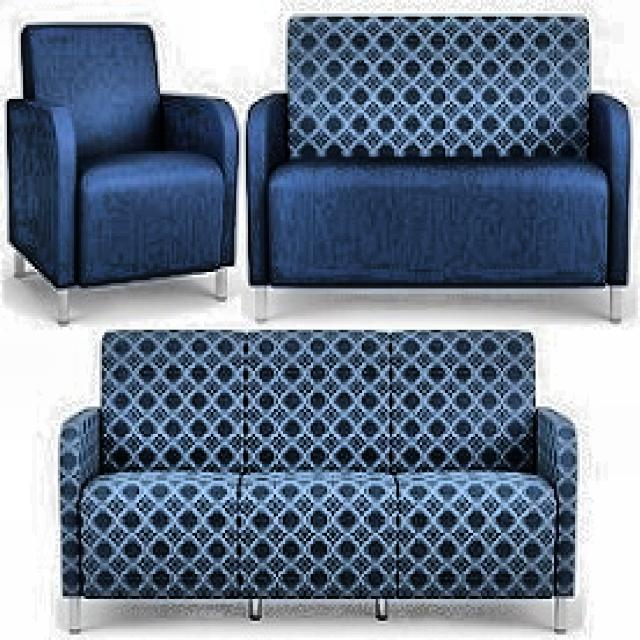sofa: (56, 327, 577, 634), (244, 11, 630, 324), (5, 19, 238, 324)
